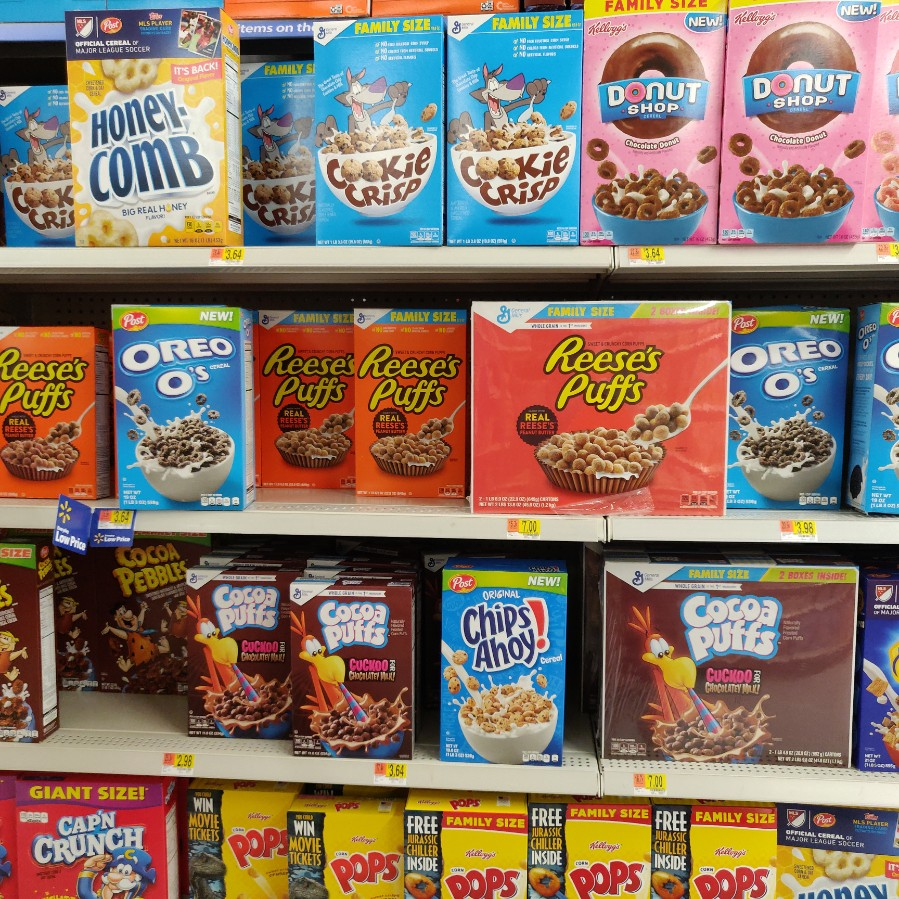Chips Ahoys-565717529: (438, 570, 566, 769)
Honey Comb- 009288857: (66, 7, 241, 246)
Oreo-563424384: (103, 302, 249, 511), (728, 309, 847, 516)
